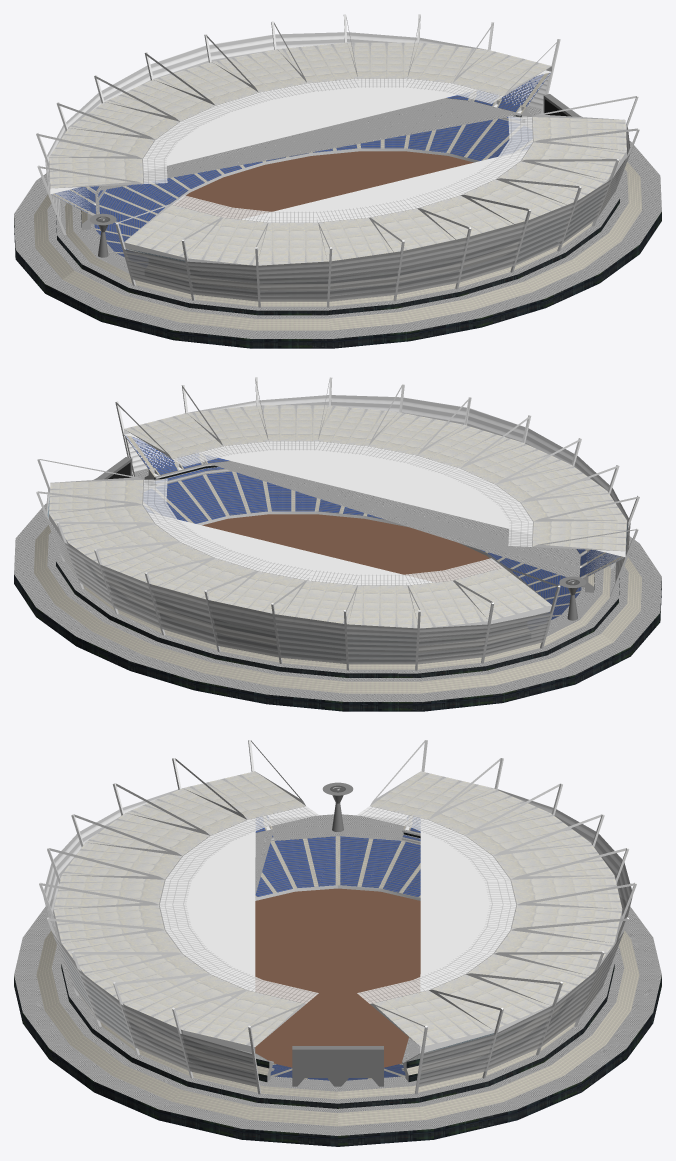
File: Stadium.fbx
3 renders of one model, top to bottom at view 1: azimuth 30°, elevation 25°; view 2: azimuth 150°, elevation 25°; view 3: azimuth 270°, elevation 25°, orthographic. The views are drawn at different scales.
Parts seen in each view (by area): view 1: olimpic1, Komponent_318_2, Komponent_319_2, Komponent_320_2, Komponent_327_1, Komponent_327_2, Komponent_318_1, Komponent_325_2, Komponent_321_2, Komponent_322_1, Komponent_320_1, Komponent_326_2 (+29 smaller); view 2: olimpic1, Komponent_327_1, Komponent_326_1, Komponent_318_2, Komponent_325_1, Komponent_318_1, Komponent_327_2, Komponent_320_1, Komponent_324_1, Komponent_324_2, Komponent_323_2, Komponent_325_2 (+29 smaller); view 3: olimpic1, Komponent_318_1, Komponent_327_2, Komponent_319_1, Komponent_318_2, Komponent_327_1, Komponent_326_2, Komponent_320_1, Komponent_321_1, Komponent_325_2, Komponent_322_1, Komponent_323_2 (+27 smaller).
Part boxes in pixels (x1,y1,x2,y2): olimpic1: (14, 14, 661, 348); Komponent_318_2: (124, 204, 221, 257); Komponent_319_2: (187, 217, 267, 265); Komponent_320_2: (258, 222, 327, 265); Komponent_327_1: (49, 157, 143, 188); Komponent_327_2: (532, 117, 626, 150); Komponent_318_1: (453, 50, 551, 96); Komponent_325_2: (496, 161, 606, 204); Komponent_321_2: (319, 217, 393, 261); Komponent_322_1: (212, 49, 306, 92); Komponent_320_1: (347, 42, 418, 78); Komponent_326_2: (521, 142, 626, 180); olimpic1: (14, 377, 661, 711); Komponent_327_1: (453, 567, 551, 620); Komponent_326_1: (408, 580, 488, 628); Komponent_318_2: (532, 520, 626, 551); Komponent_325_1: (348, 585, 417, 628); Komponent_318_1: (49, 480, 143, 513); Komponent_327_2: (124, 413, 222, 458); Komponent_320_1: (69, 524, 179, 567); Komponent_324_1: (282, 580, 356, 624); Komponent_324_2: (318, 405, 398, 446); Komponent_323_2: (369, 412, 463, 455); Komponent_325_2: (257, 405, 328, 441); olimpic1: (14, 740, 661, 1146); Komponent_318_1: (370, 990, 492, 1046); Komponent_327_2: (183, 990, 305, 1046); Komponent_319_1: (430, 974, 549, 1029); Komponent_318_2: (183, 771, 305, 819); Komponent_327_1: (370, 771, 492, 819); Komponent_326_2: (126, 974, 245, 1029); Komponent_320_1: (466, 954, 589, 1005); Komponent_321_1: (493, 930, 613, 975); Komponent_325_2: (86, 954, 209, 1005); Komponent_322_1: (510, 905, 622, 943); Komponent_323_2: (53, 905, 165, 943).
Size of what is drawn, in the model's own units: 13391 by 2001 by 11389.
